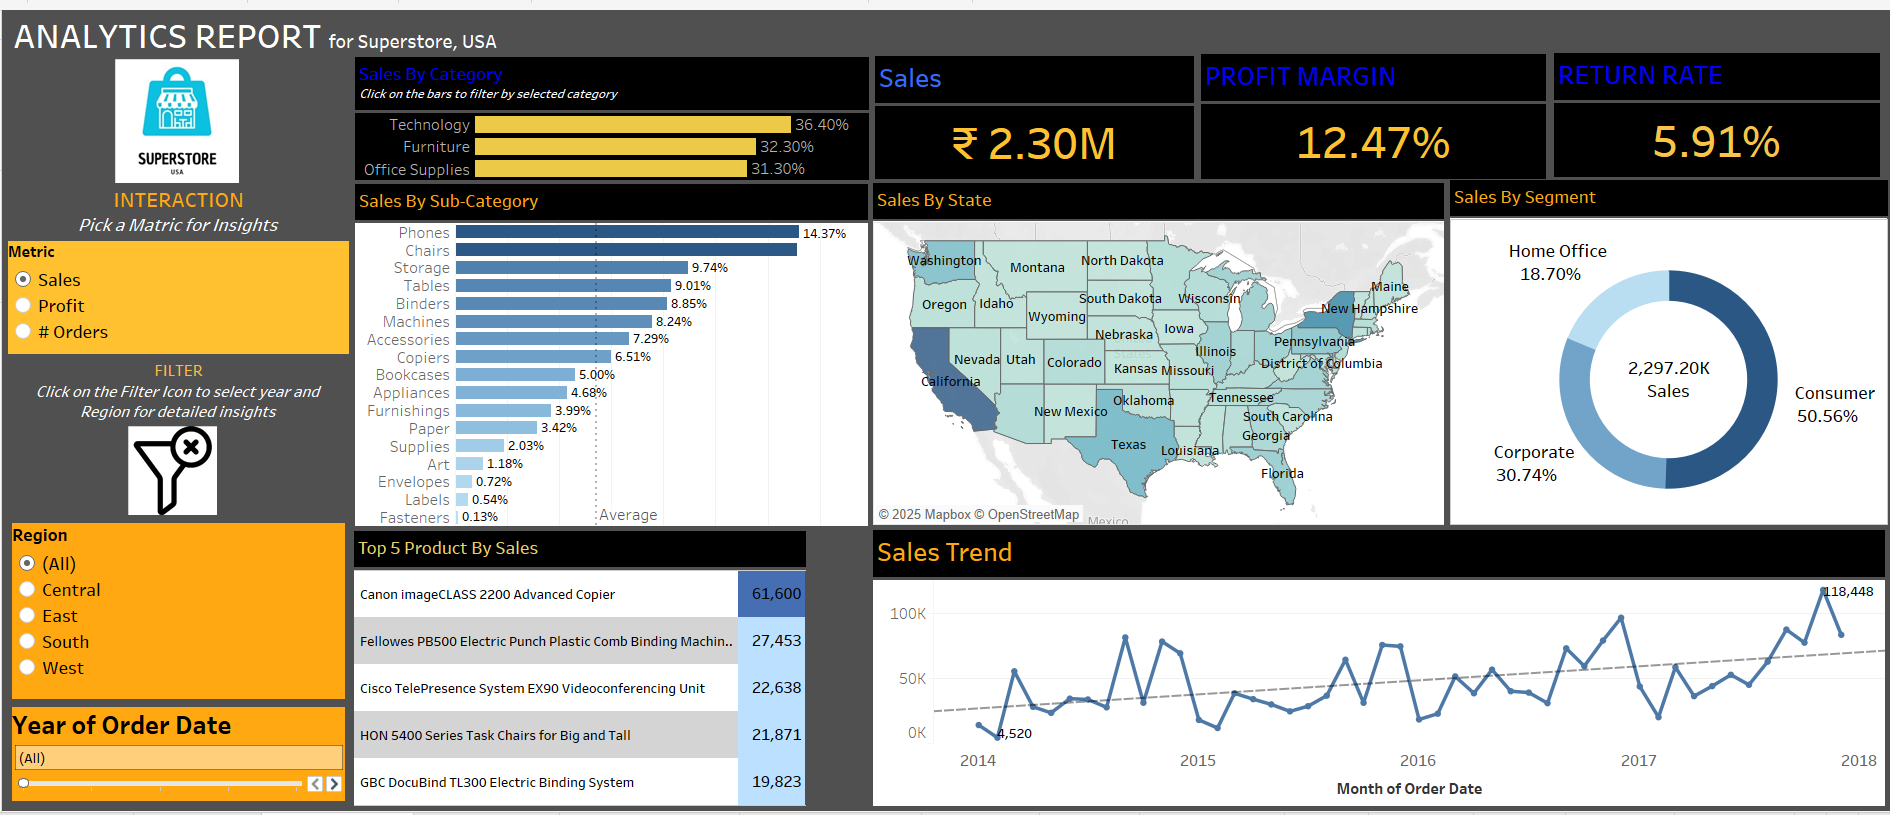

This screenshot's page, from the dashboard's own definition file:
{"tool":"tableau","page":{"name":"Analytics Report","canvas":[1000,1000],"units":"permille","ordinal":0},"visuals":[{"type":"text","box":[4.2,3.8,301.8,53.7]},{"type":"worksheet","title":"RETURN RATE","mark":"Automatic","box":[822,53.7,172.6,154.8]},{"type":"worksheet","title":"Profit Margin","mark":"Automatic","box":[634.9,54.9,182.9,156.1]},{"type":"worksheet","title":"SALES KPI","mark":"Automatic","box":[462.3,57.4,169,153.6]},{"type":"worksheet","title":"Sales By Category","mark":"Automatic","rows":["Category"],"cols":["Calculation_1332502580784349185"],"box":[187.1,58.7,272.2,153.6]},{"type":"image","param":"Image/Picture1.jpg","box":[3.6,61.2,178.5,154.8]},{"type":"worksheet","title":"Sales By Segment","mark":"Pie","rows":["Calculation_65020761357037568","Calculation_65020761357037568"],"box":[767.1,212.2,231.7,430.7]},{"type":"worksheet","title":"Sales by State","mark":"Automatic","box":[461.1,216,303,427]},{"type":"worksheet","title":"Sales By Sub-Category","mark":"Automatic","rows":["Sub-Category"],"cols":["Calculation_1332502580784349185"],"box":[187.1,217.2,271.6,427]},{"type":"text","box":[4.2,219.7,178.6,62.4]},{"type":"parameter","param":"[Parameters].[Parameter 2]","box":[3,288.4,181,141.1]},{"type":"text","box":[2.4,430.7,181.6,91.1]},{"type":"dashboard-object","box":[66.8,511.9,46.9,127.3]},{"type":"filter","title":"Sales By Category","param":"[federated.0o8uxfl0j2glt11byz7c30e6ry9z].[none:Region:nk]","box":[3,635.5,181,229.7]},{"type":"worksheet","title":"Sales Trend","mark":"Line","rows":["Calculation_1332502580784349185"],"cols":["Order Date"],"box":[461.1,649.2,536.5,344.6]},{"type":"worksheet","title":"Top 5 Product By Sales","mark":"Square","rows":["Product Name"],"box":[186.5,650.4,274.6,348.3]},{"type":"filter","title":"Sales Trend","param":"[federated.0o8uxfl0j2glt11byz7c30e6ry9z].[yr:Order Date:ok]","box":[3,865.2,181,127.3]}]}

Visuals, with their boxes on the dashboard's canvas, which has no fixed pixel size, in thousandths of its width and height (x1, y1, x2, y2). These are canvas units, not pixel positions in the 1890x815 screenshot, which may show the page scaled, cropped or inside an application window:
text: x1=4 y1=4 x2=306 y2=58
"RETURN RATE" worksheet: x1=822 y1=54 x2=995 y2=208
"Profit Margin" worksheet: x1=635 y1=55 x2=818 y2=211
"SALES KPI" worksheet: x1=462 y1=57 x2=631 y2=211
"Sales By Category" worksheet: x1=187 y1=59 x2=459 y2=212
image: x1=4 y1=61 x2=182 y2=216
"Sales By Segment" worksheet (Pie marks): x1=767 y1=212 x2=999 y2=643
"Sales by State" worksheet: x1=461 y1=216 x2=764 y2=643
"Sales By Sub-Category" worksheet: x1=187 y1=217 x2=459 y2=644
text: x1=4 y1=220 x2=183 y2=282
parameter: x1=3 y1=288 x2=184 y2=430
text: x1=2 y1=431 x2=184 y2=522
dashboard-object: x1=67 y1=512 x2=114 y2=639
"Sales By Category" filter: x1=3 y1=636 x2=184 y2=865
"Sales Trend" worksheet (Line marks): x1=461 y1=649 x2=998 y2=994
"Top 5 Product By Sales" worksheet (Square marks): x1=186 y1=650 x2=461 y2=999
"Sales Trend" filter: x1=3 y1=865 x2=184 y2=992
